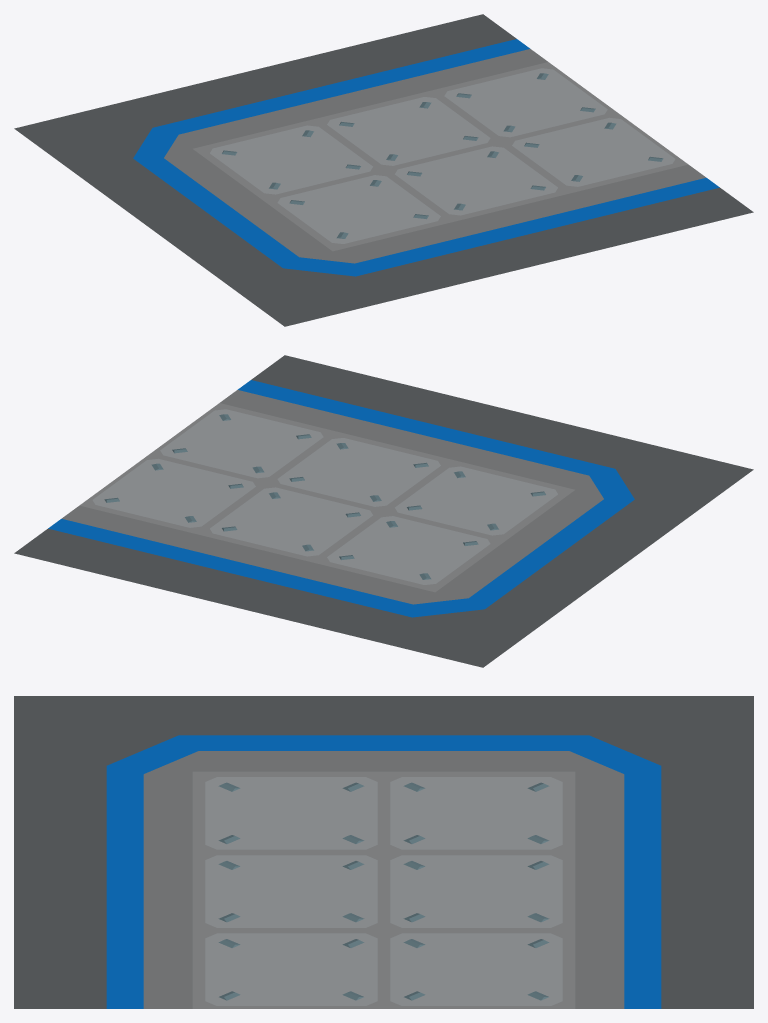
Rendered from Floor_type_B_002.fbx.
3 views of the same model, one above another, from view 1: azimuth 30°, elevation 25°; view 2: azimuth 150°, elevation 25°; view 3: azimuth 270°, elevation 25° (orthographic). The views are drawn at different scales.
Parts seen in each view (by area): view 1: Floor_type_B_002; view 2: Floor_type_B_002; view 3: Floor_type_B_002.
Part boxes in pixels (x1,y1,x2,y2): Floor_type_B_002: (14,14,753,326); Floor_type_B_002: (14,355,753,667); Floor_type_B_002: (14,696,753,1008).
Bounding box in the file's own units: 400 × 400 × 0.8.
